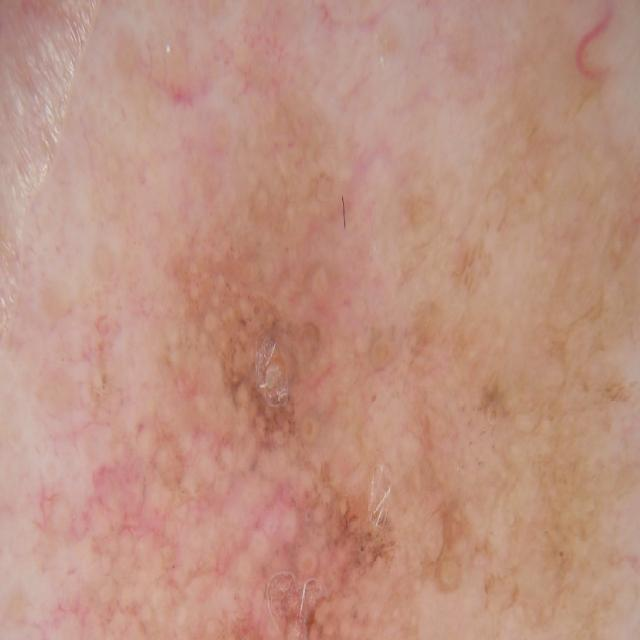Melanoma: (362, 147, 640, 562), (31, 278, 348, 640)
